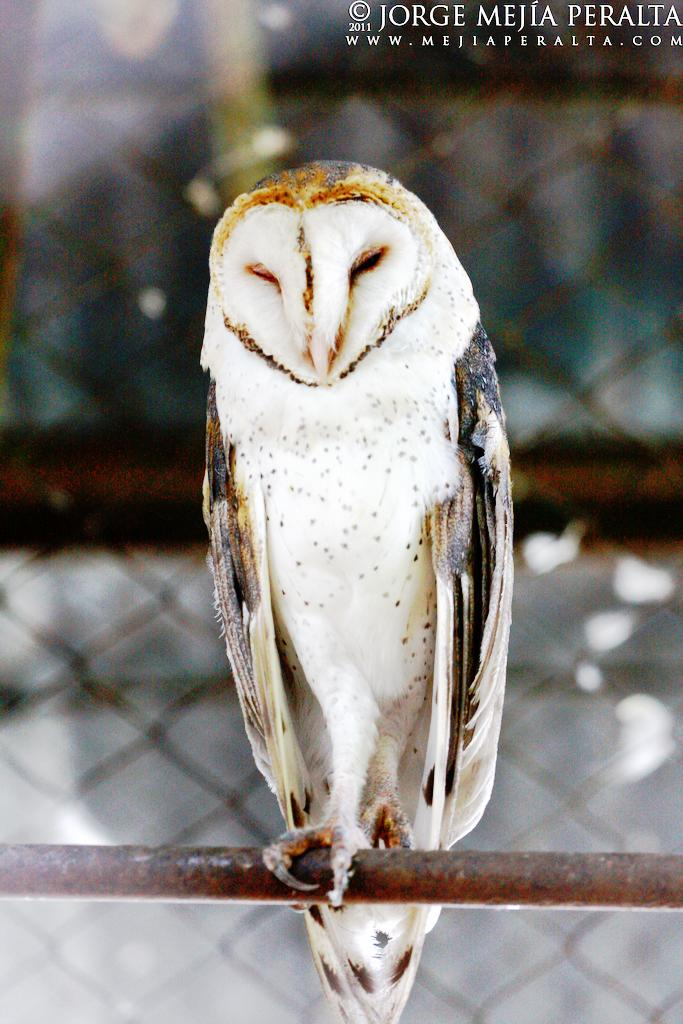Owl: (196, 158, 520, 1024)
